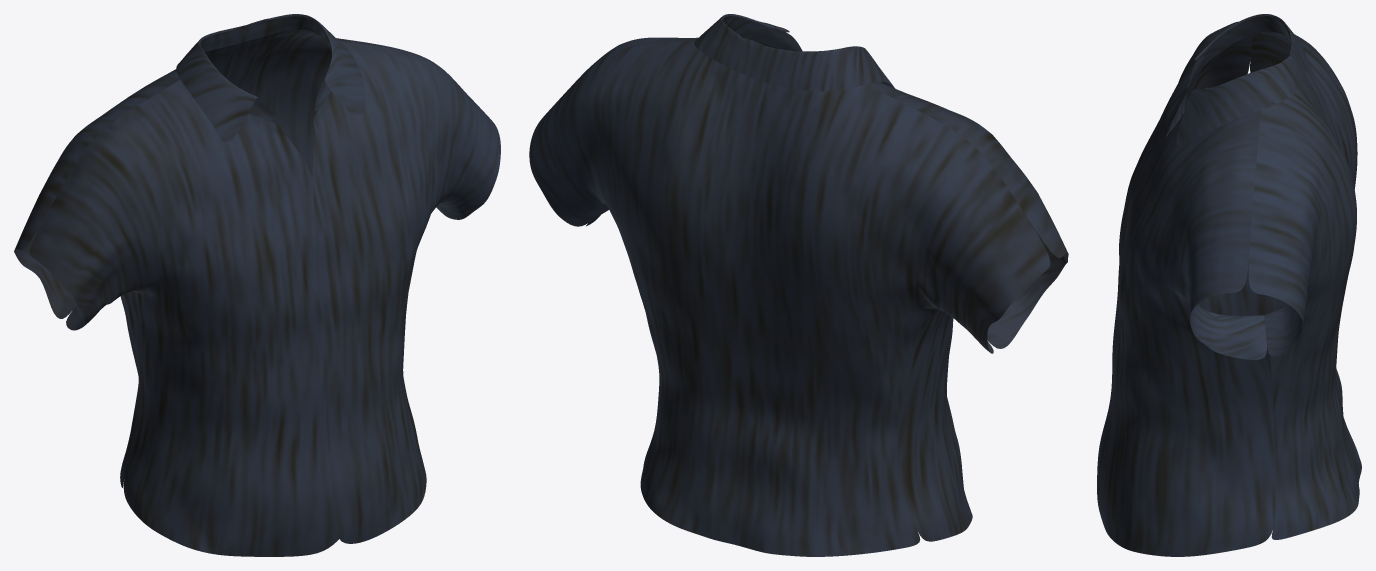
File: SXS_SMM.dae
3 renders of one model, left to right at view 1: azimuth 30°, elevation 25°; view 2: azimuth 150°, elevation 25°; view 3: azimuth 270°, elevation 25°, orthographic. The views are drawn at different scales.
Visible parts, largest first — view 1: shortshirt; view 2: shortshirt; view 3: shortshirt.
Part boxes in pixels (left/top/right/bottom): shortshirt: left=14, top=14, right=500, bottom=556; shortshirt: left=529, top=14, right=1068, bottom=556; shortshirt: left=1097, top=14, right=1361, bottom=556.
Bounding box in the file's own units: 5.86 × 5.59 × 2.84.
